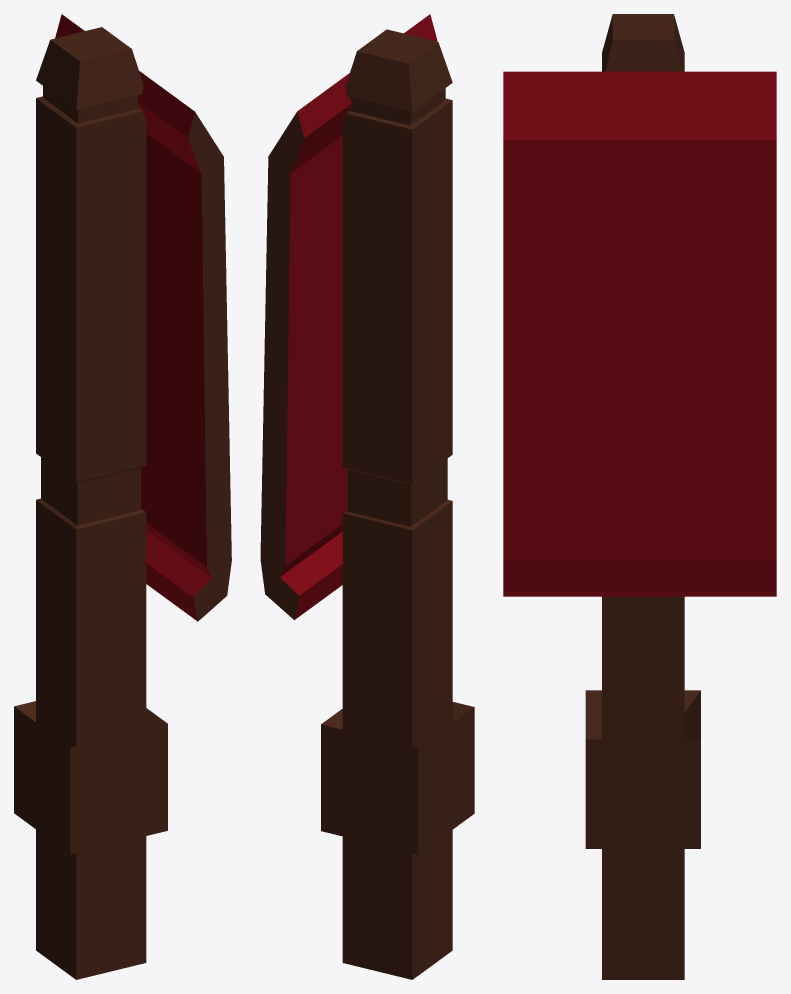
Rendered from banner_roman.fbx.
3 views of the same model, side by side, from view 1: azimuth 30°, elevation 25°; view 2: azimuth 150°, elevation 25°; view 3: azimuth 270°, elevation 25° (orthographic). The views are drawn at different scales.
Visible parts, largest first — view 1: Cube; view 2: Cube; view 3: Cube.
Part boxes in pixels (<box>): Cube: <box>14,14,231,979</box>; Cube: <box>260,14,474,979</box>; Cube: <box>503,14,776,979</box>.
Bounding box in the file's own units: 346 × 2491 × 660.
